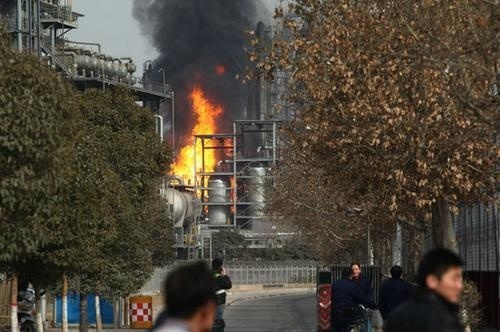fire: (172, 90, 224, 197)
